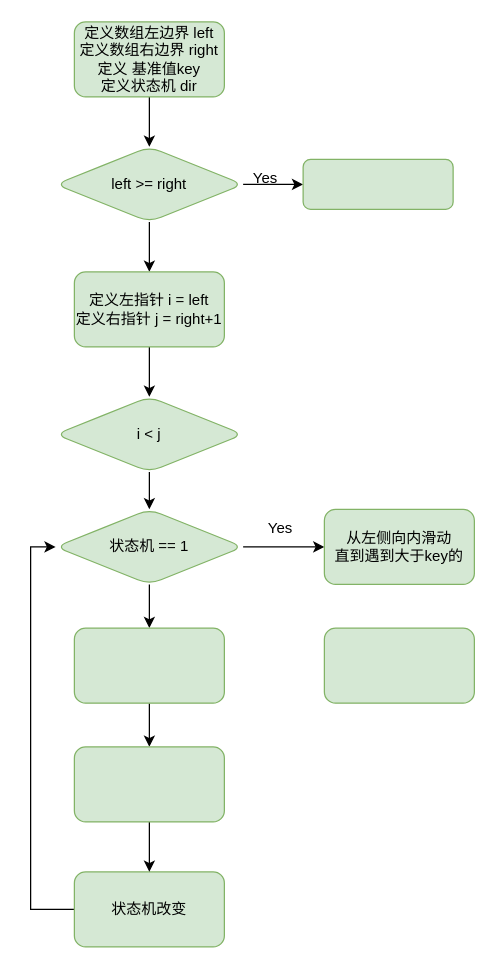
This 496x969 diagram has some shape labels left out. Here are the shapes that lost their labels. From the top down, the box of each, then its label:
(302, 158, 453, 209): 结束
(73, 627, 224, 703): 从右侧向内滑动 直到遇到小于key的
(323, 627, 474, 703): 右指针赋值为左侧大值
(73, 746, 224, 822): 左指针赋值为右侧小值
